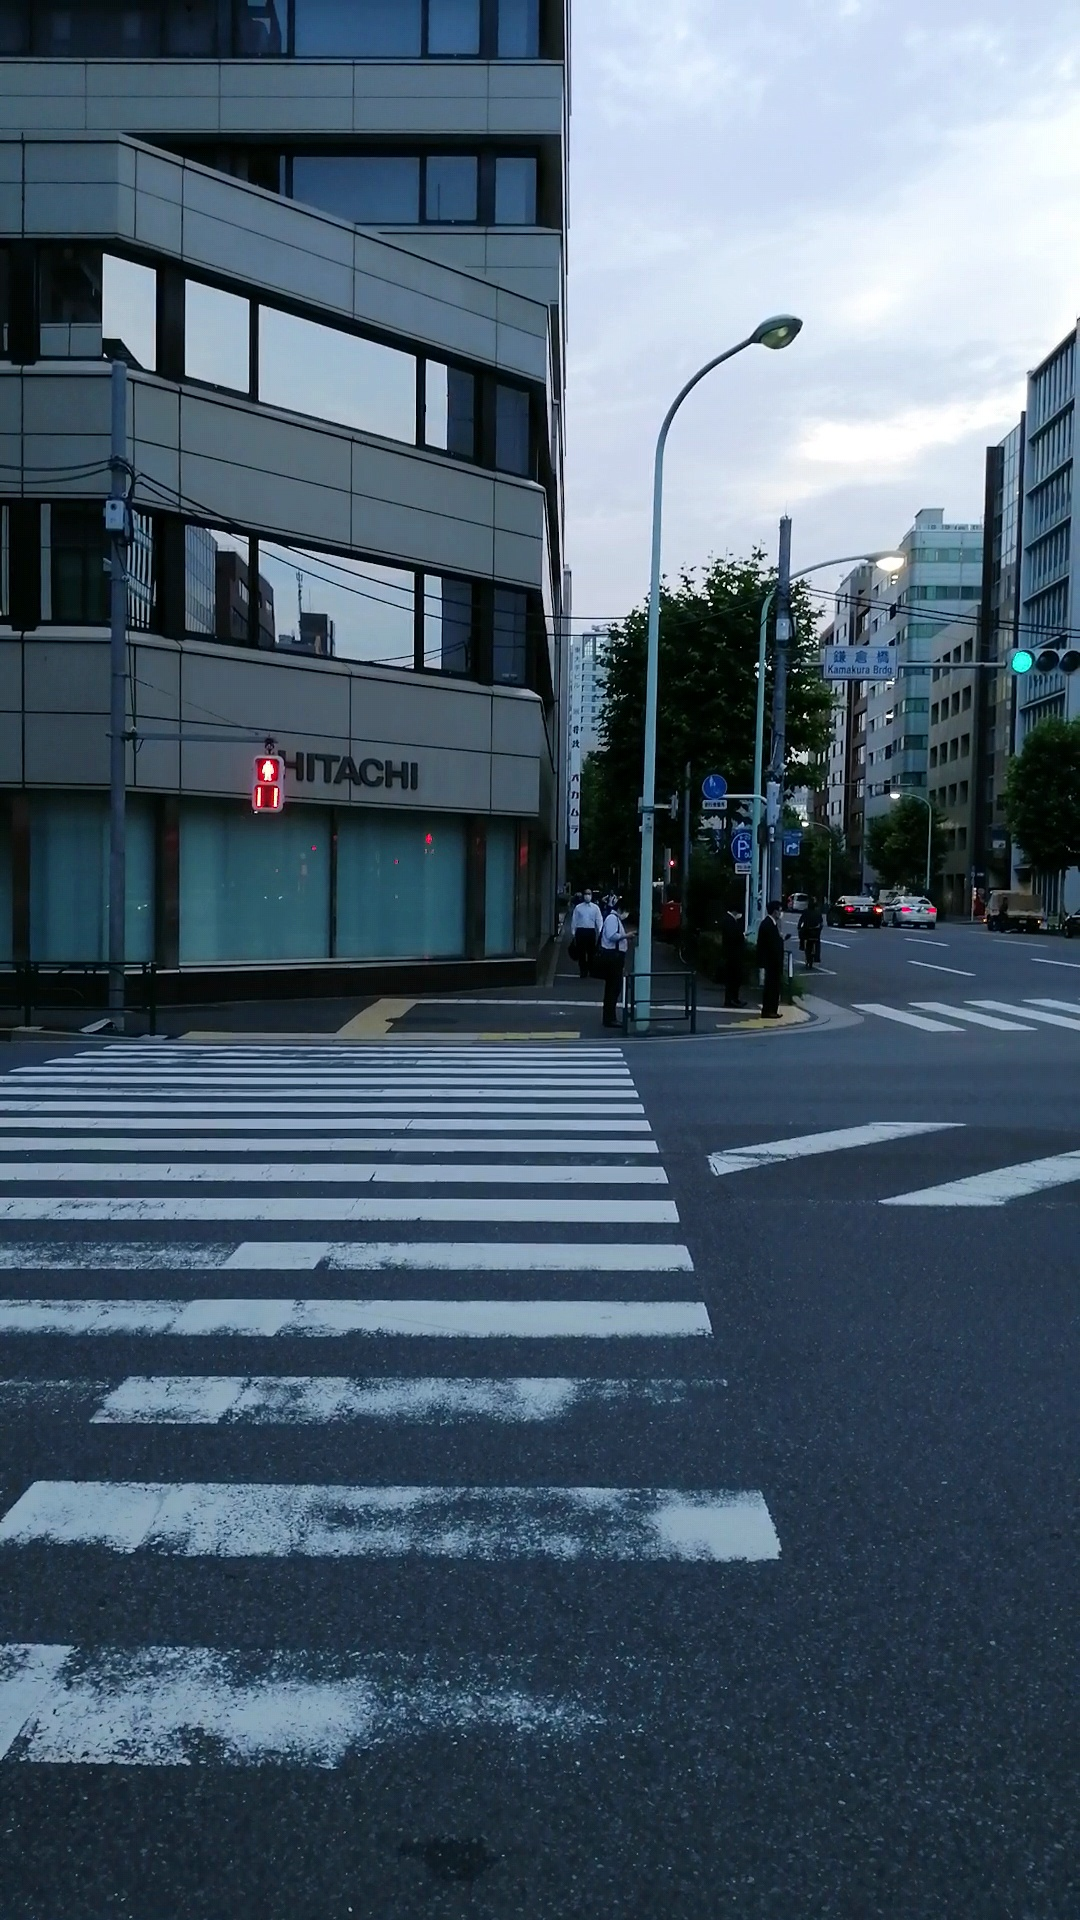red: (251, 756, 285, 811)
